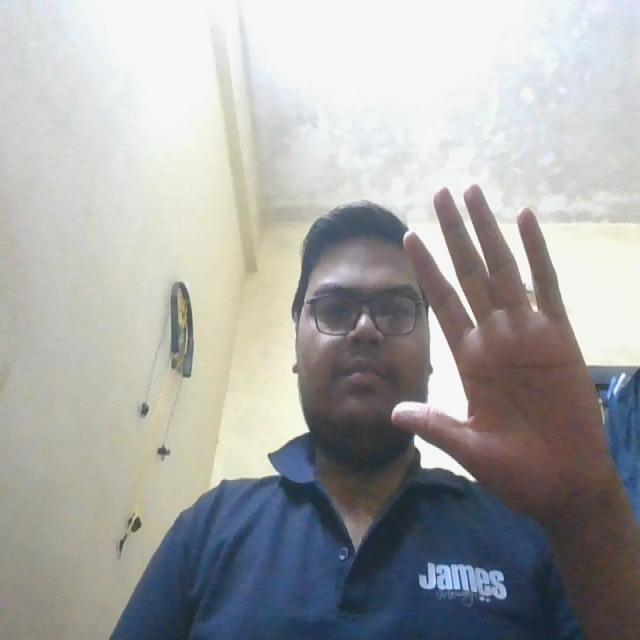Hello: (382, 162, 615, 524)
